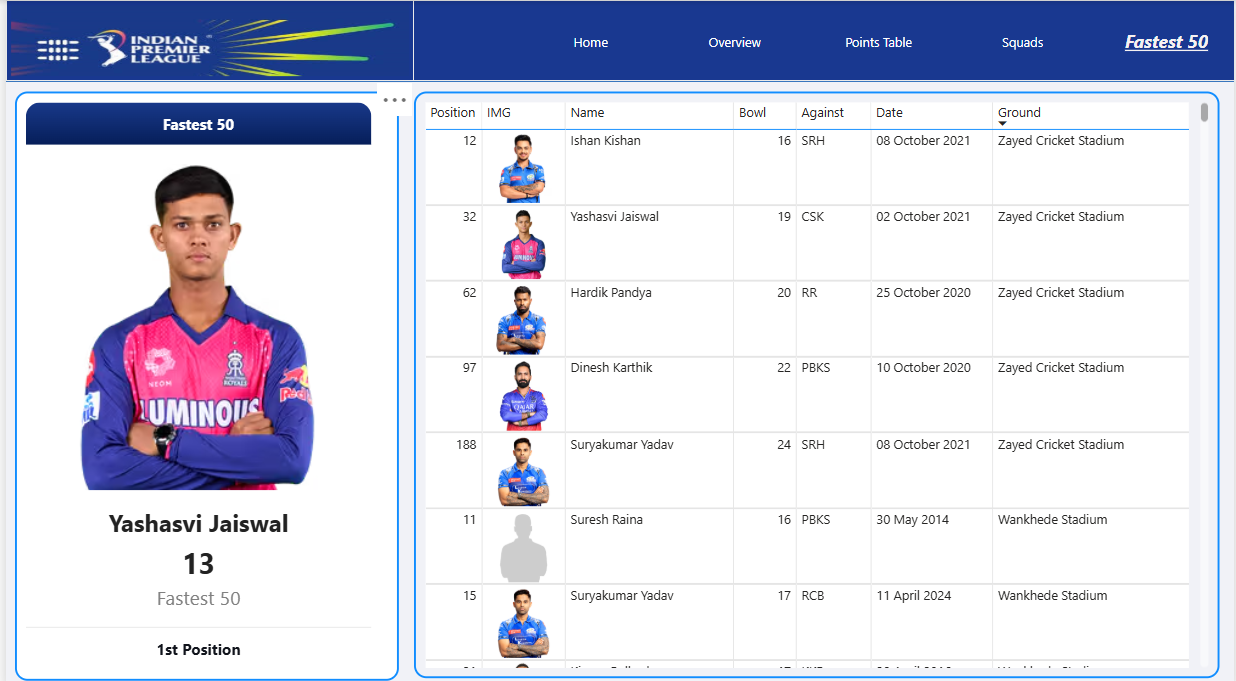

This screenshot's page, from the dashboard's own definition file:
{"tool":"powerbi","page":{"name":"Fastest 50","canvas":[1280,720],"ordinal":9},"visuals":[{"type":"shape","box":[0,0,2000.6,85],"z":0,"group":"g1"},{"type":"htmlContent443BE3AD55E043BF878BED274D3A6855","fields":{"content":["Records.Top_Players"]},"box":[9.4,95.3,400,614],"z":0},{"type":"image","box":[0,0,425.1,84.4],"z":1000,"group":"g1"},{"type":"tableEx","fields":{"Values":["Fast50.Position","Fast50.IMG","Fast50.Name","Fast50.Bowl","Fast50.Against","Fast50.Date","Fast50.Ground"]},"box":[425,95.3,839.3,611.1],"z":1000},{"type":"group","id":"g1","title":"Group 1","box":[0,0,2000.6,85],"z":2000},{"type":"pageNavigator","box":[539.2,17.2,740.9,51.6],"z":2000,"group":"g1"}]}

Visuals, with their boxes in screenshot pixels (x1, y1, x2, y2), scaled from the page's 1280x720 canvas onto the 1236x681 screenshot:
shape: (left=0, top=0, right=1235, bottom=80)
htmlContent443BE3AD55E043BF878BED274D3A6855 - Records.Top_Players: (left=9, top=90, right=395, bottom=671)
image: (left=0, top=0, right=410, bottom=80)
tableEx - Fast50.Position x Fast50.IMG: (left=410, top=90, right=1221, bottom=668)
"Group 1" group: (left=0, top=0, right=1235, bottom=80)
pageNavigator: (left=521, top=16, right=1235, bottom=65)
